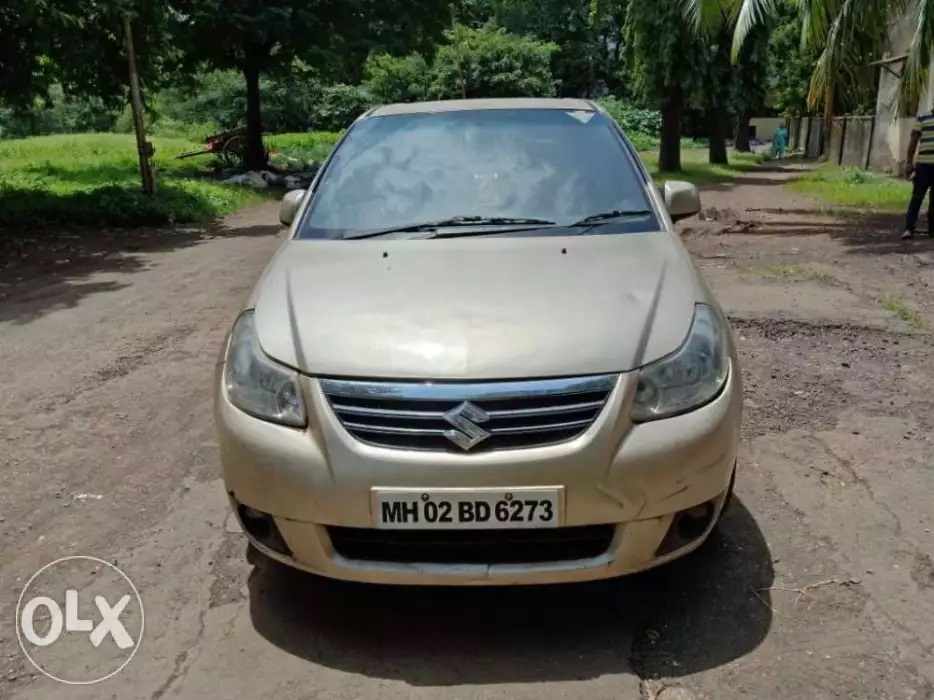licenseplate: (369, 486, 563, 533)
